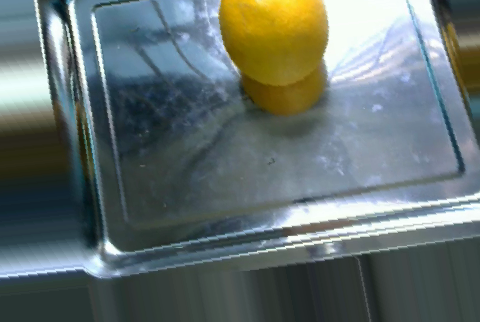Orange: (217, 0, 329, 85)
